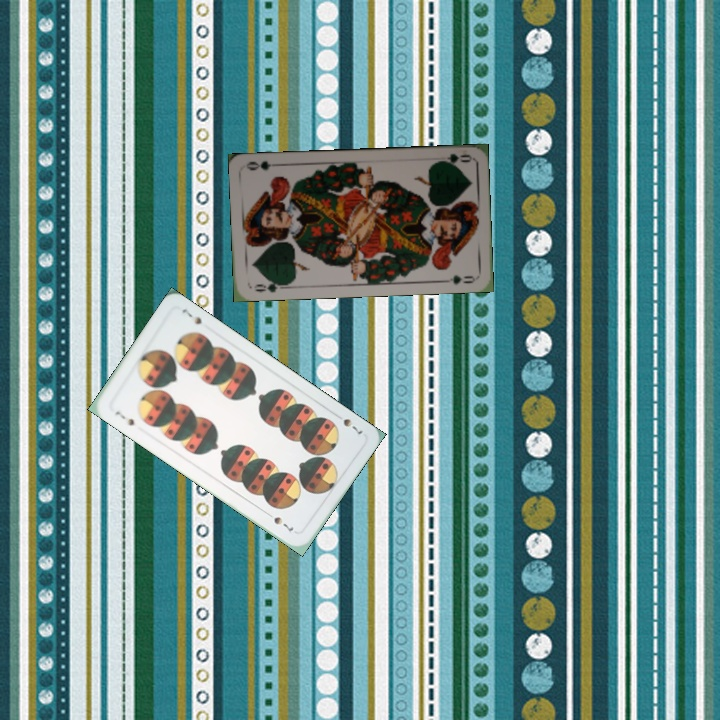GO: (432, 149, 472, 168), (250, 276, 288, 295)
S7: (331, 409, 366, 437), (111, 407, 137, 428)
